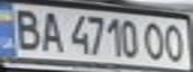0: (118, 17, 142, 60)
1: (103, 15, 124, 56)
4: (63, 11, 90, 54)
7: (84, 13, 106, 55)
A: (36, 8, 66, 53)
B: (9, 4, 42, 52)
O: (160, 20, 190, 64), (139, 20, 169, 62)
